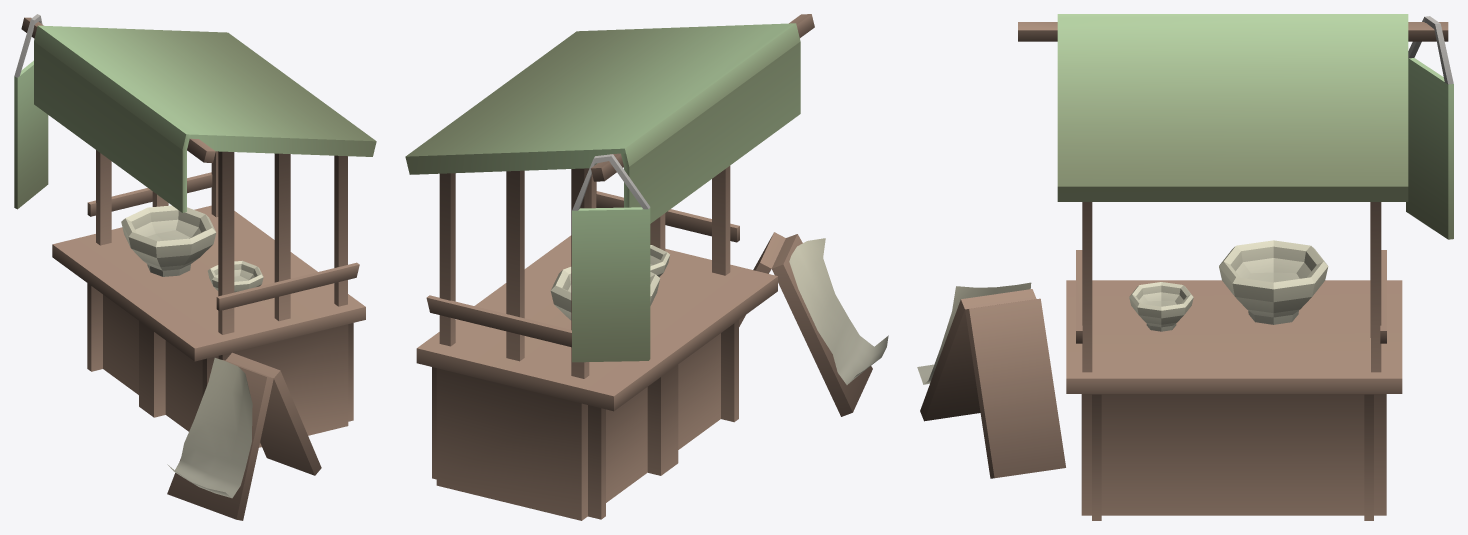
Rendered from m_MarketStall1.fbx.
3 views of the same model, side by side, from view 1: azimuth 30°, elevation 25°; view 2: azimuth 150°, elevation 25°; view 3: azimuth 270°, elevation 25° (orthographic). The views are drawn at different scales.
Visible parts, largest first — view 1: MarketStall1; view 2: MarketStall1; view 3: MarketStall1.
Boxes of the visible parts, x1,y1,x2,y2 form: MarketStall1: [14, 14, 376, 520]; MarketStall1: [405, 14, 888, 520]; MarketStall1: [917, 14, 1453, 520].
Size of the model in its own units: 181 by 262 by 314.
